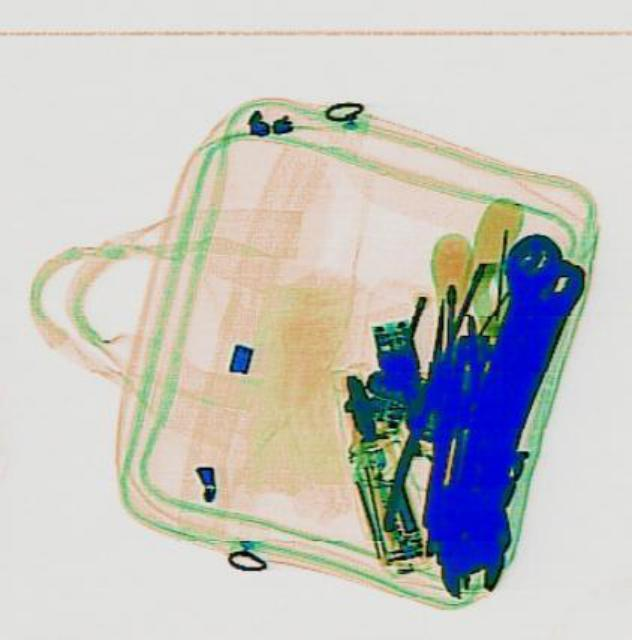Wrench: (427, 227, 570, 606)
